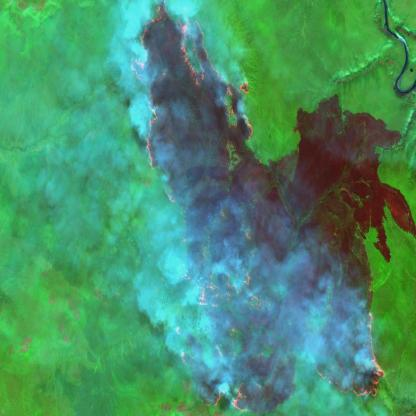fire: (169, 256, 386, 416), (126, 0, 256, 207)
